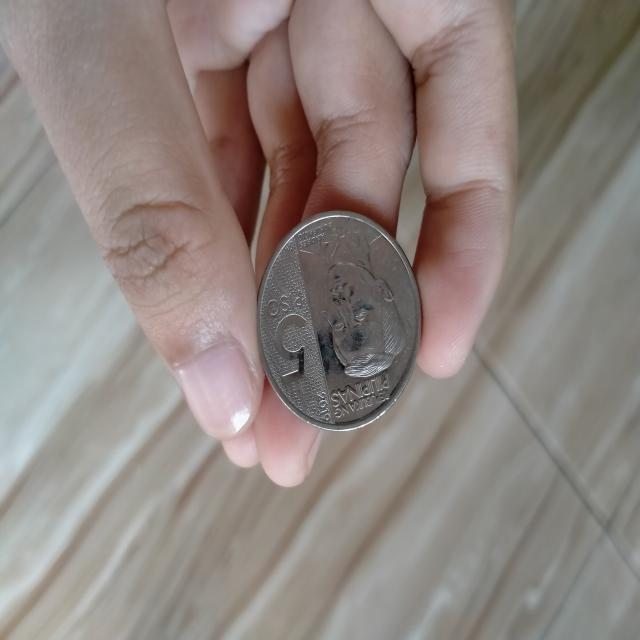5_New_Front: (262, 273, 320, 399)
